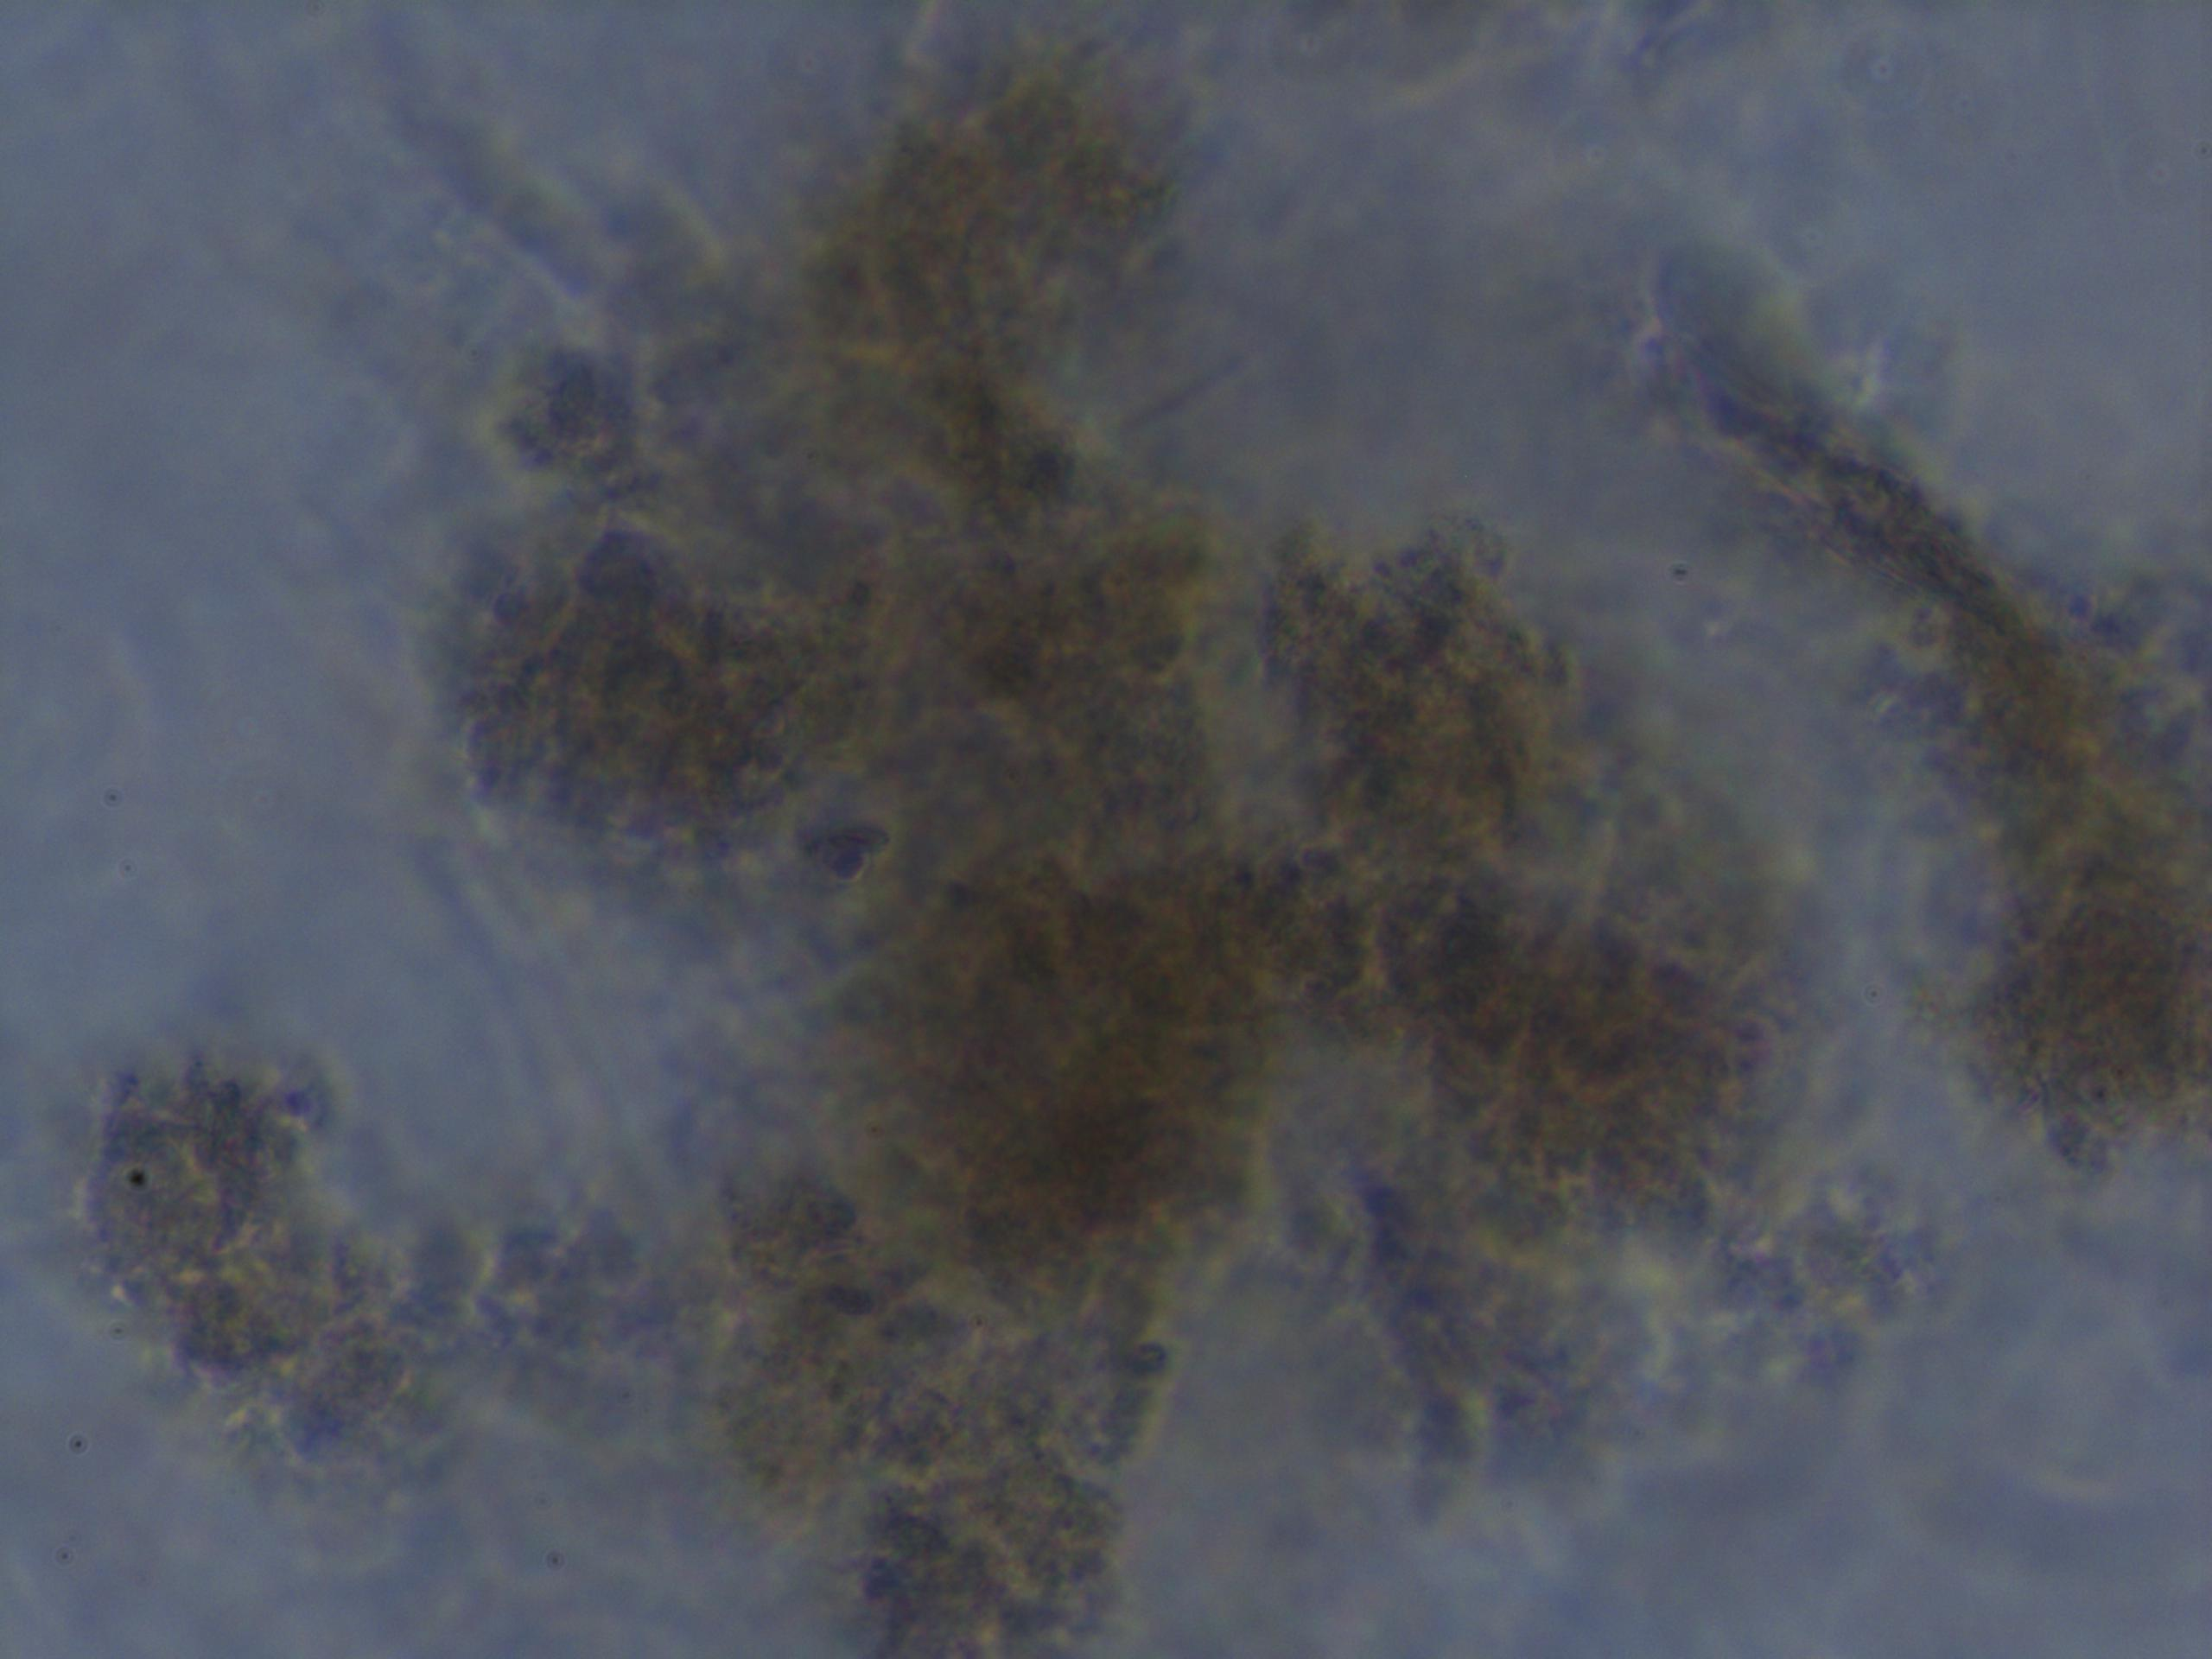open_floc: (85, 49, 1792, 1657)
